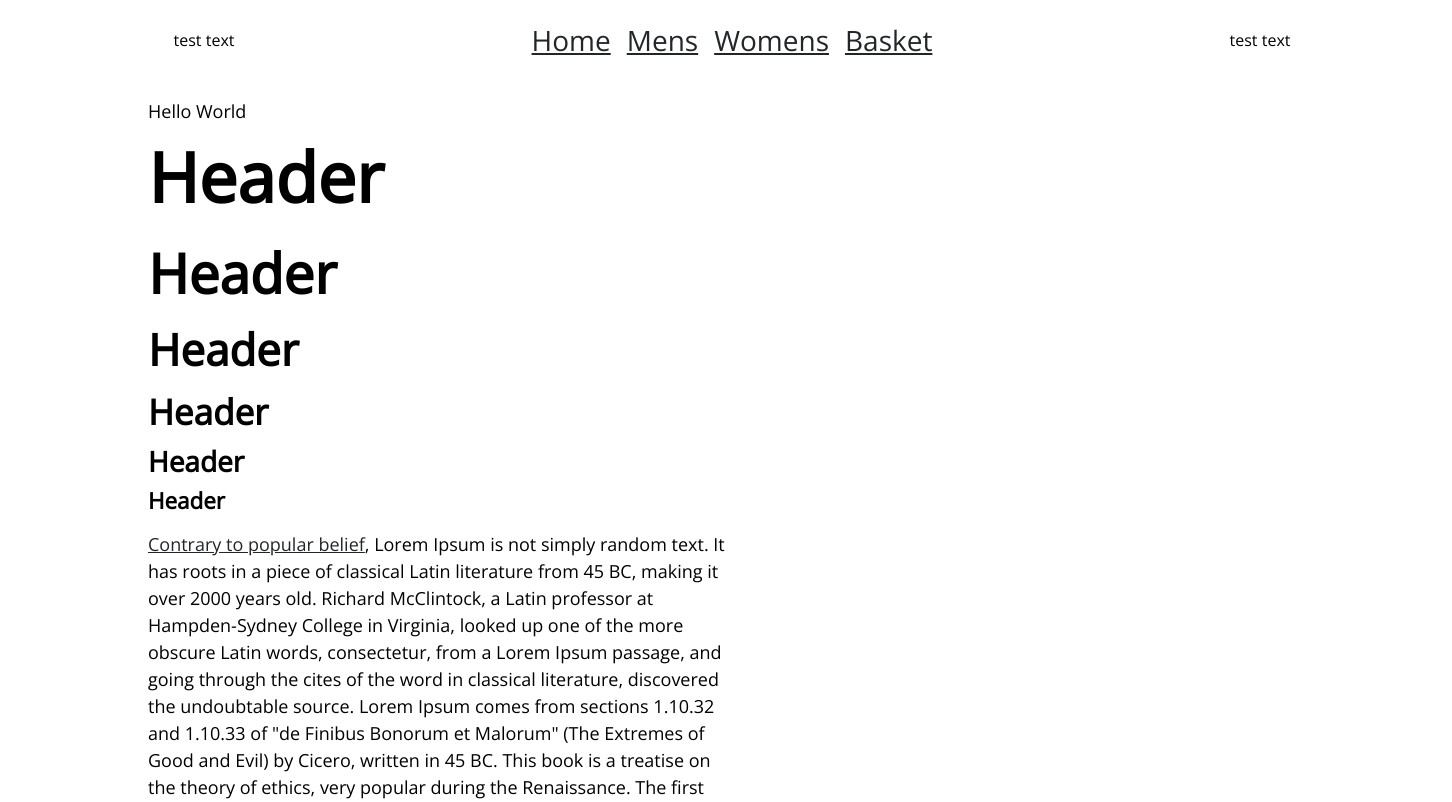
Test: renders the Mens Page
The width and height of the screenshot is (1452, 802).
find the nav link
Click the link "Mens". click: click(662, 40)
box: [627, 21, 698, 59]
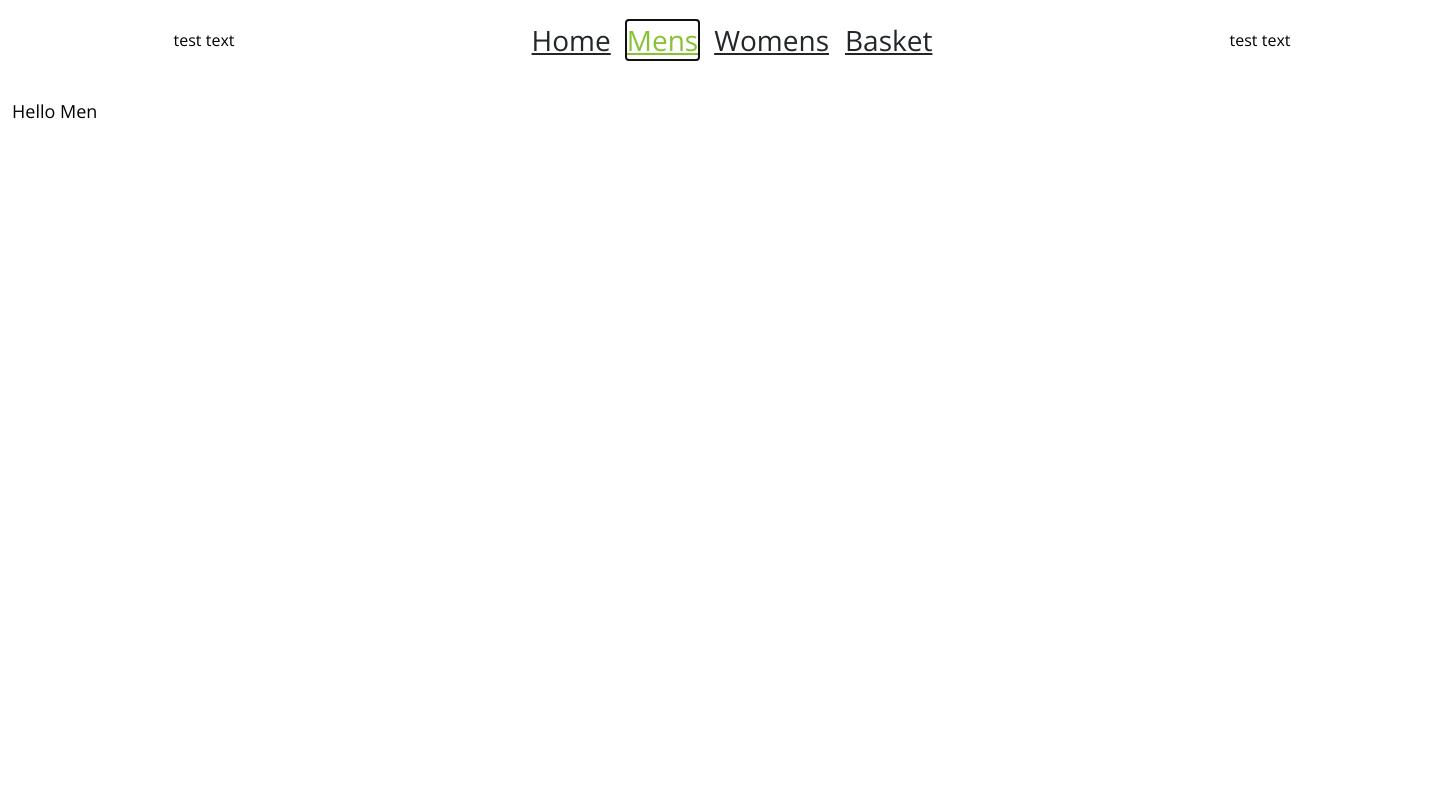
Check: the text "Hello Men" is shown, box [12, 99, 97, 123]
